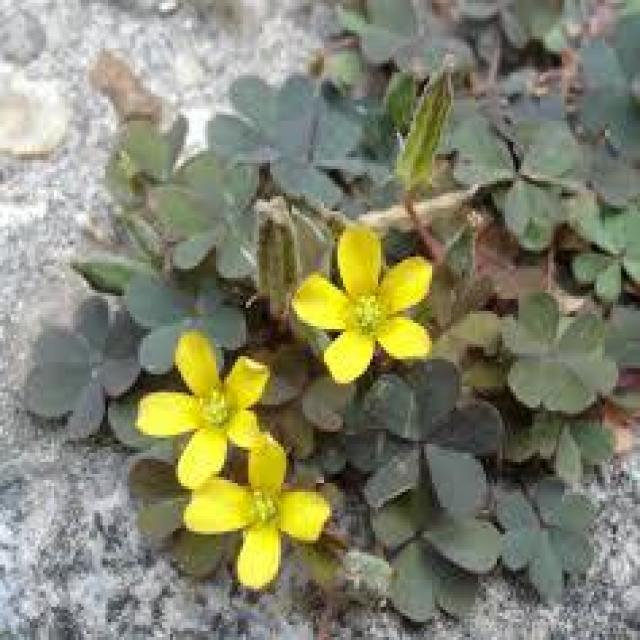organic waste: (294, 220, 451, 368), (183, 442, 329, 596), (132, 335, 292, 471)
